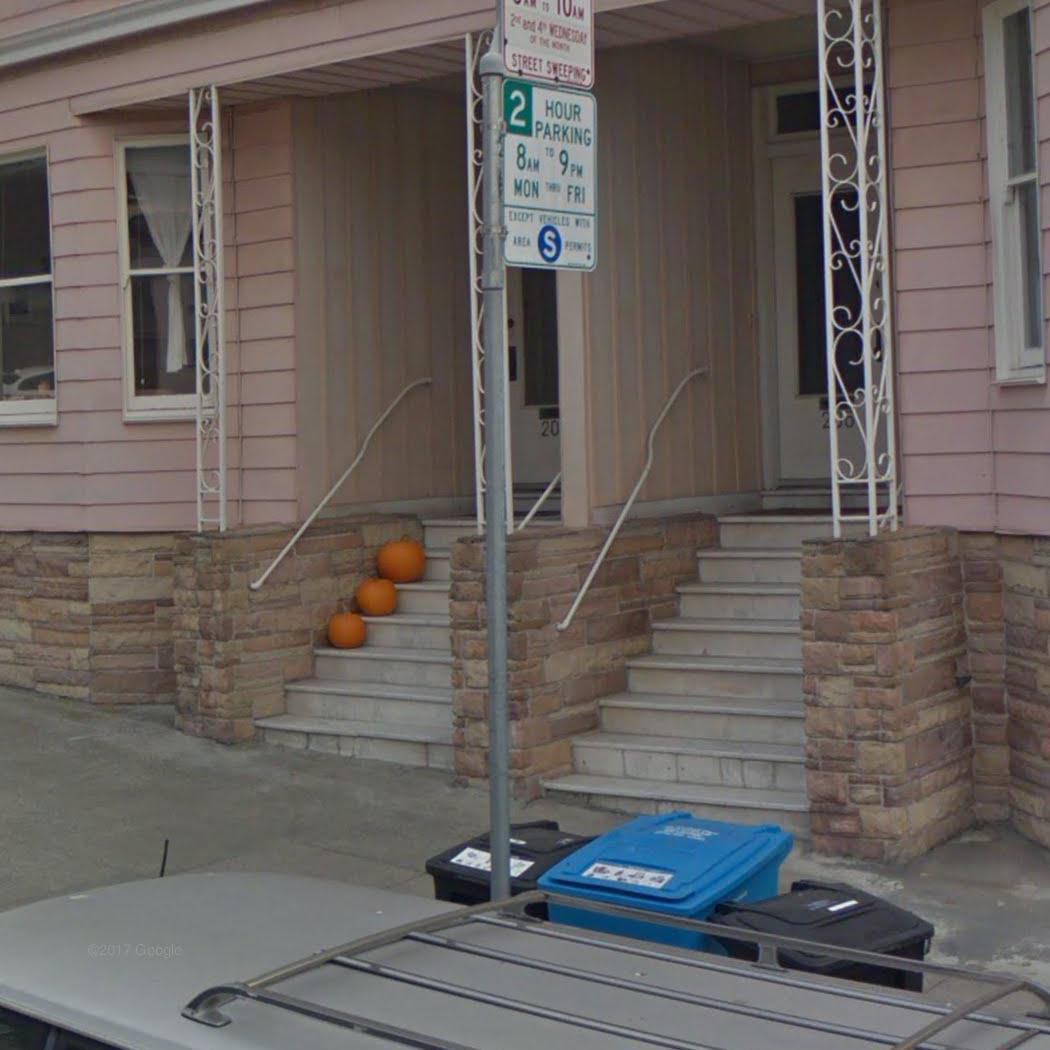2 Hour Parking: (498, 80, 600, 275)
No Parking: (502, 0, 598, 94)
